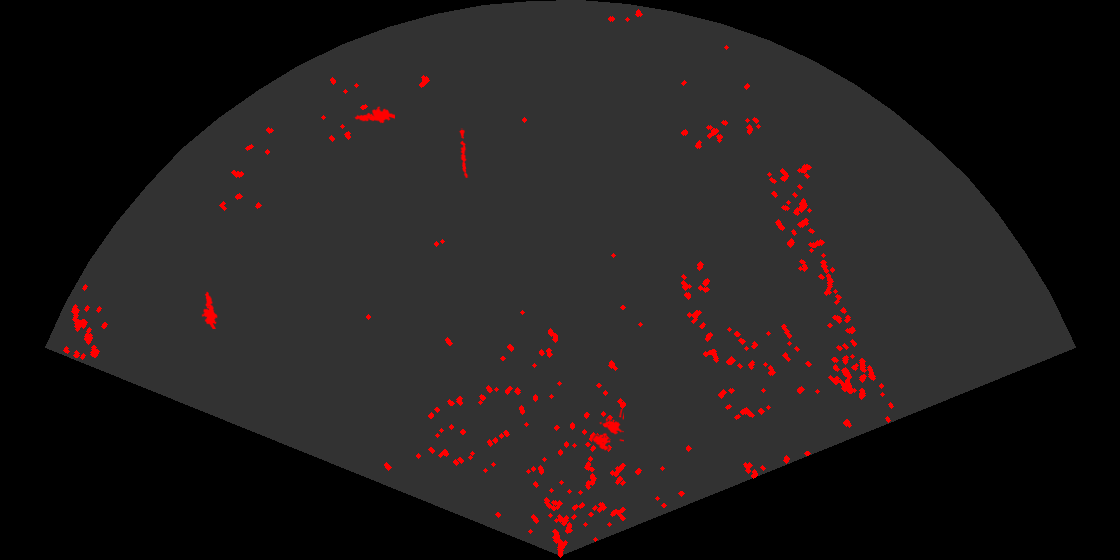cage: (591, 409, 624, 452)
chain: (457, 128, 470, 178)
frogman: (353, 105, 395, 125), (200, 289, 219, 329)
